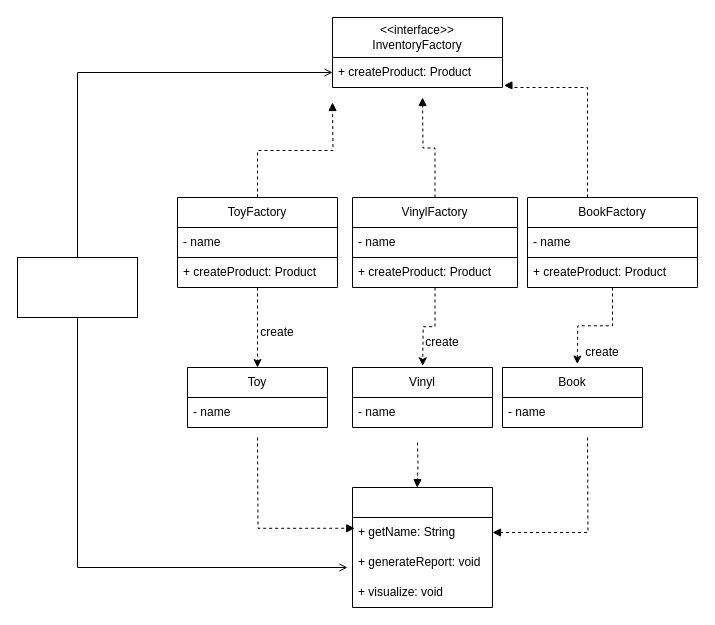
The diagram is 715 pixels wide and 625 high, and some of its shapes have lost their labels. Each missing label, with the box of its shape:
<<interface>> Product: (352, 486, 492, 608)
client: (16, 256, 138, 318)
